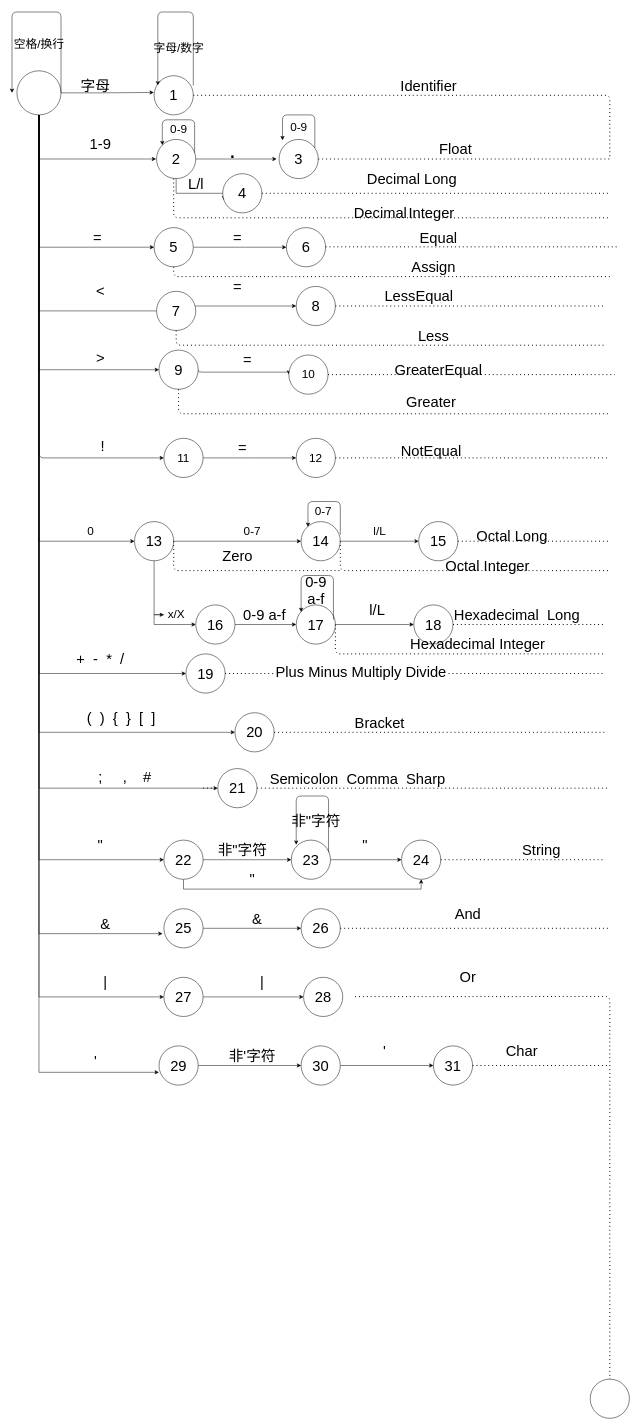
This 638x1427 diagram has some shape labels left out. The centre of each missing label's shape, as x and y in pixels:
END: (x=609, y=1398)
START: (x=38, y=92)
